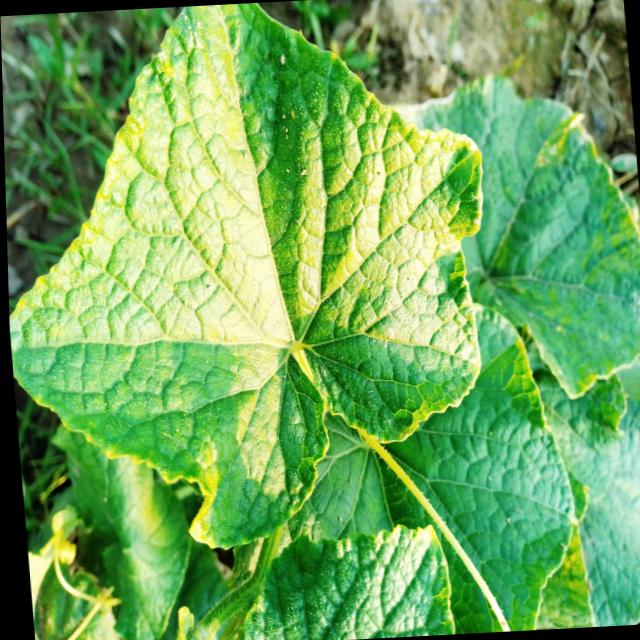Fresh-Leaf: (11, 7, 484, 553)
